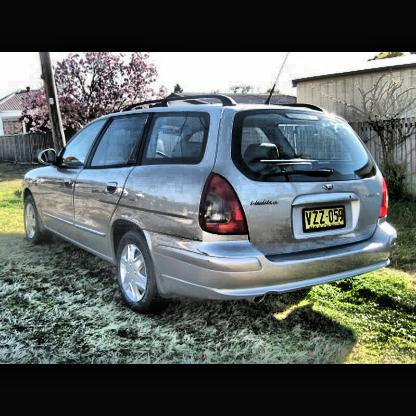Daewoo Nubira Wagon 2002: (23, 95, 399, 316)
